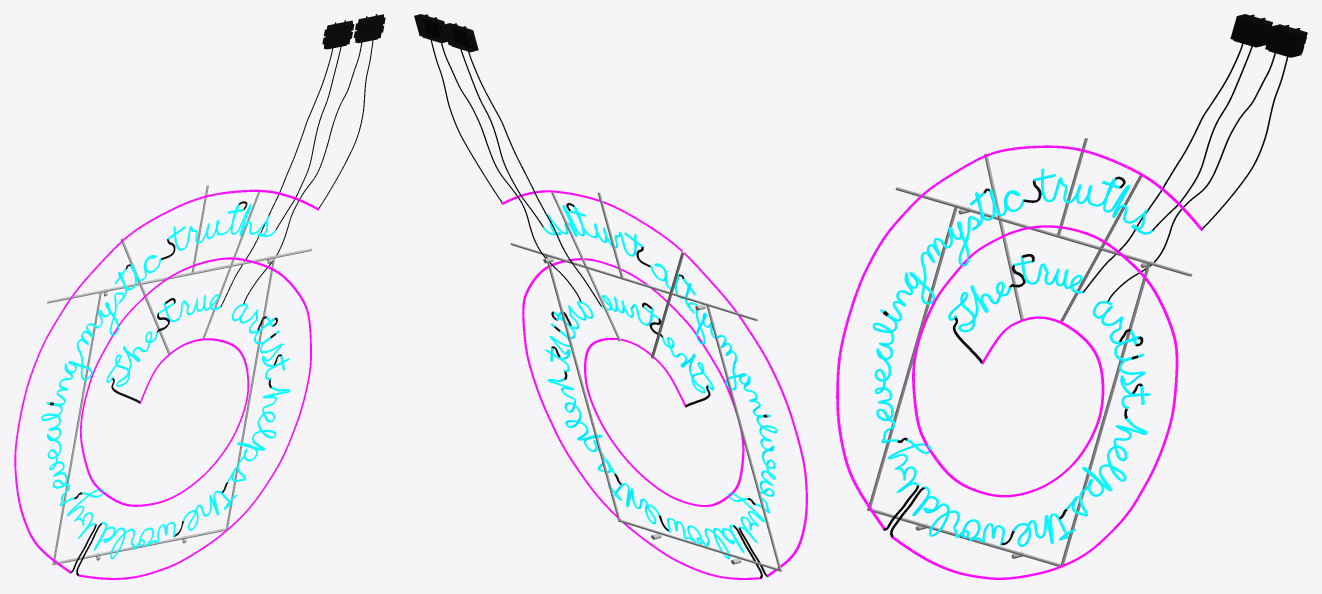
The model's file is NAUMAN.glb.
3 views of the same model, side by side, from view 1: azimuth 30°, elevation 25°; view 2: azimuth 150°, elevation 25°; view 3: azimuth 330°, elevation 25° (orthographic). The views are drawn at different scales.
Visible parts, largest first — view 1: mesh_317; view 2: mesh_317; view 3: mesh_317.
Boxes of the visible parts, x1,y1,x2,y2 form: mesh_317: (14, 14, 385, 579); mesh_317: (414, 14, 807, 579); mesh_317: (836, 14, 1307, 579).
Bounding box in the file's own units: 121 × 151 × 14.2.
Materials: 6 (6 with a texture image).
